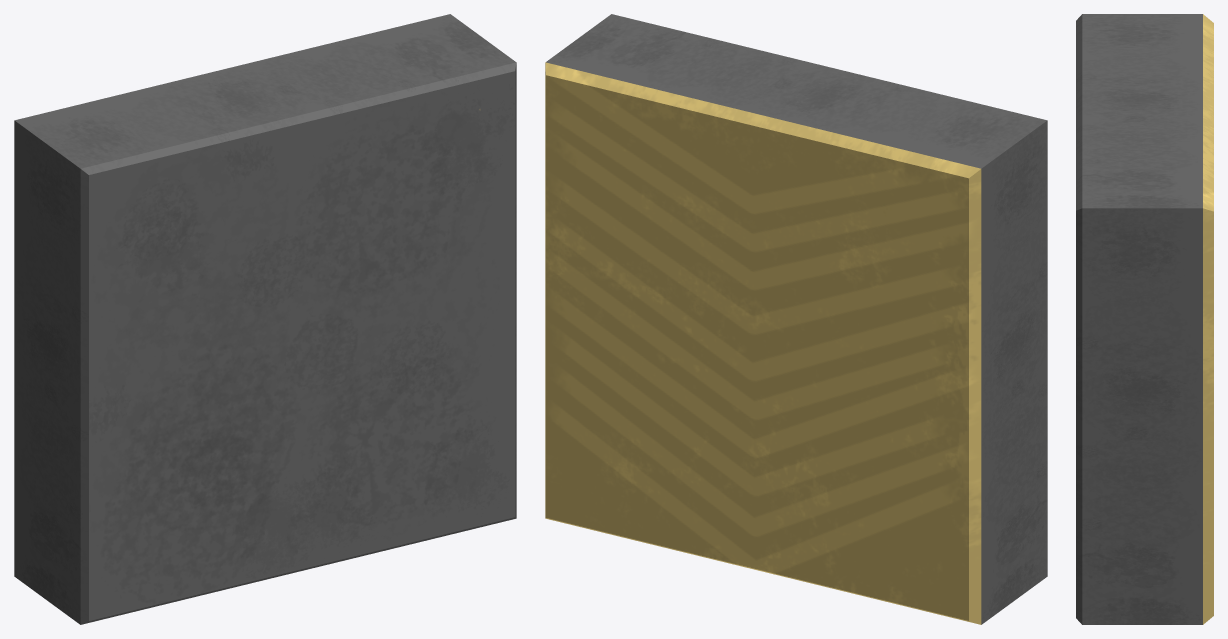
The model's file is Floor_03.fbx.
3 views of the same model, side by side, from view 1: azimuth 30°, elevation 25°; view 2: azimuth 150°, elevation 25°; view 3: azimuth 270°, elevation 25° (orthographic). The views are drawn at different scales.
Parts seen in each view (by area): view 1: Floor_03; view 2: Floor_03; view 3: Floor_03.
Boxes of the visible parts, bbox=[...] form: Floor_03: bbox=[14, 14, 516, 624]; Floor_03: bbox=[545, 14, 1047, 624]; Floor_03: bbox=[1076, 14, 1213, 624].
Size of the model in its own units: 5 by 5 by 1.5.
